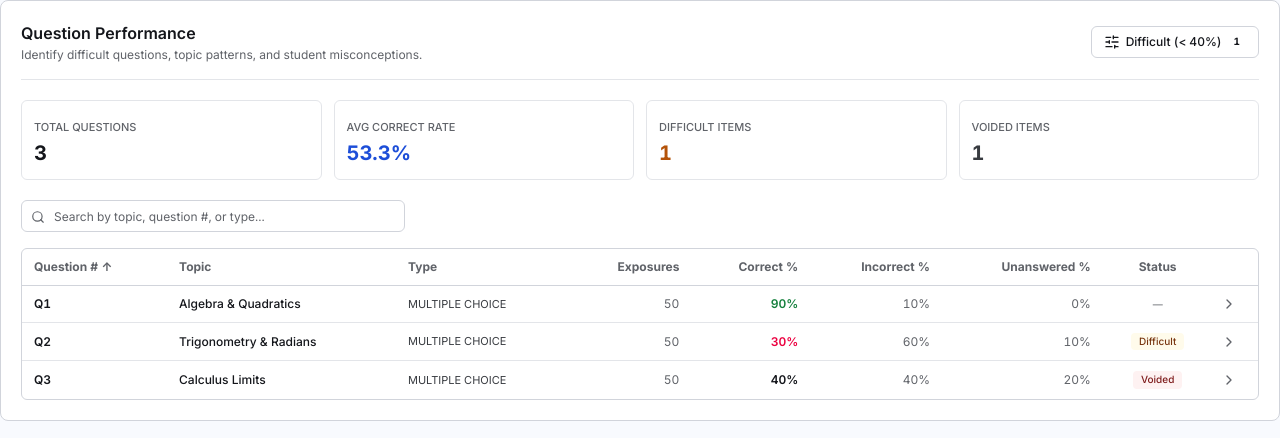
Test: QuestionPerformanceTable › filters questions by topic search input
In the field with placeholder "Search by topic, question #, or type...": {"x": 213, "y": 216} top-left (21, 200), bottom-right (405, 232), type "Trigonometry"
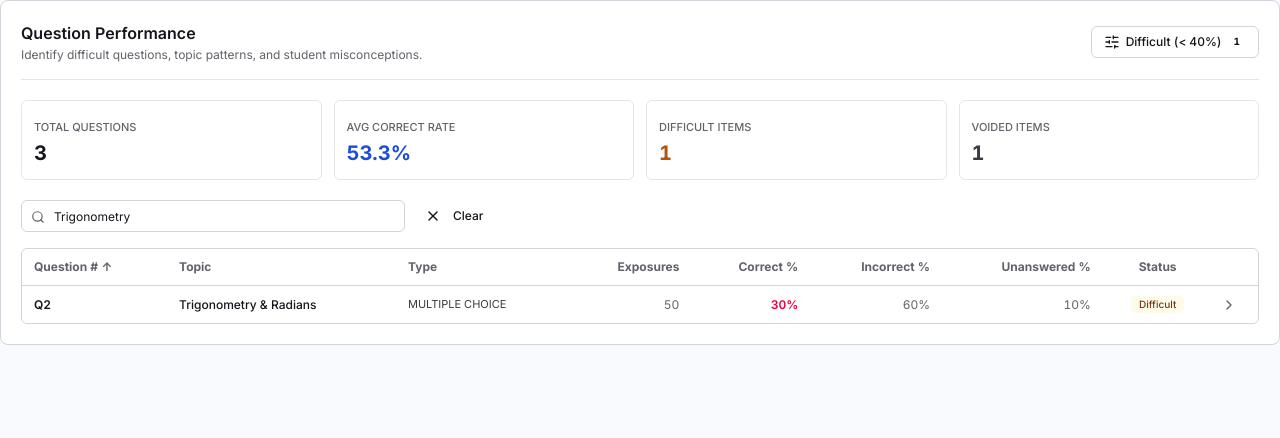
Expected: the text "Trigonometry & Radians" is shown, top-left (167, 286), bottom-right (396, 323)
Expected: the text "Algebra & Quadratics" is gone
